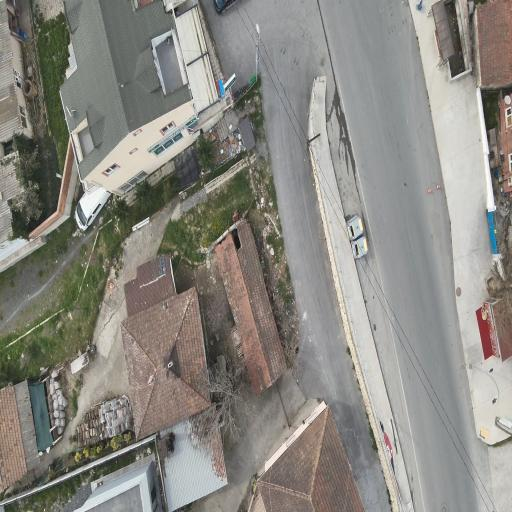car: (76, 187, 110, 230), (214, 0, 237, 13)
